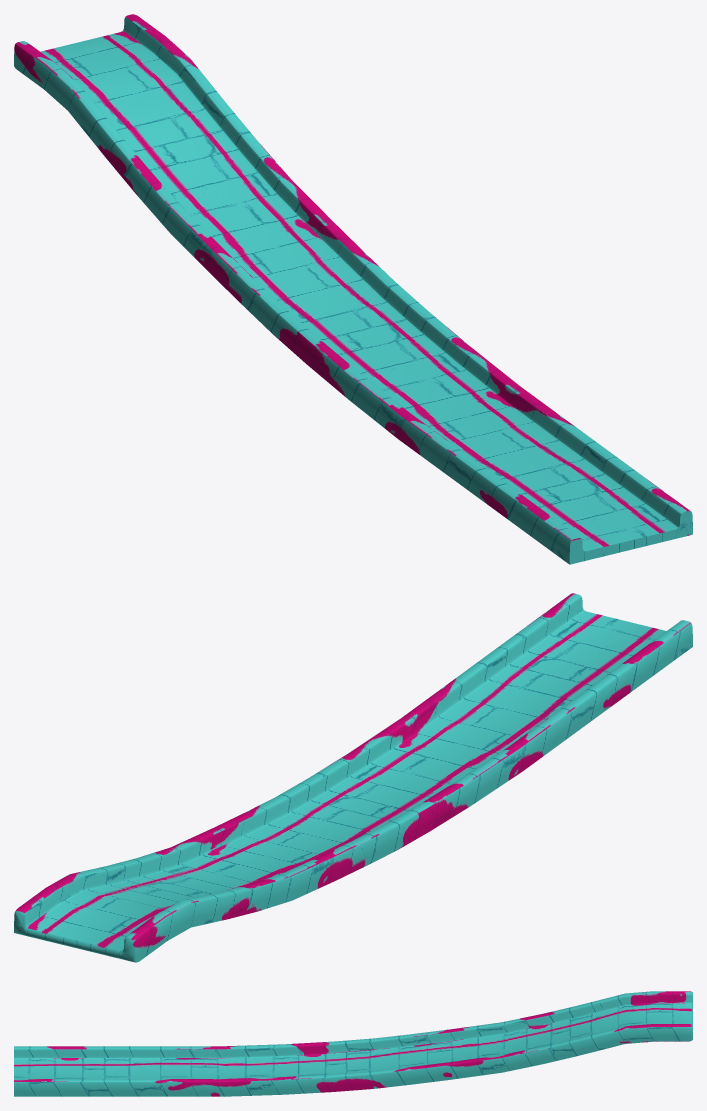
Rendered from FbxFormat.fbx.
3 views of the same model, one above another, from view 1: azimuth 30°, elevation 25°; view 2: azimuth 150°, elevation 25°; view 3: azimuth 270°, elevation 25° (orthographic). The views are drawn at different scales.
Parts seen in each view (by area): view 1: Cube; view 2: Cube; view 3: Cube.
Boxes of the visible parts, x1,y1,x2,y2 form: Cube: [14, 14, 692, 564]; Cube: [14, 593, 692, 962]; Cube: [14, 991, 692, 1096].
Bounding box in the file's own units: 200 × 178 × 1566.
Materials: 1 (1 with a texture image).
